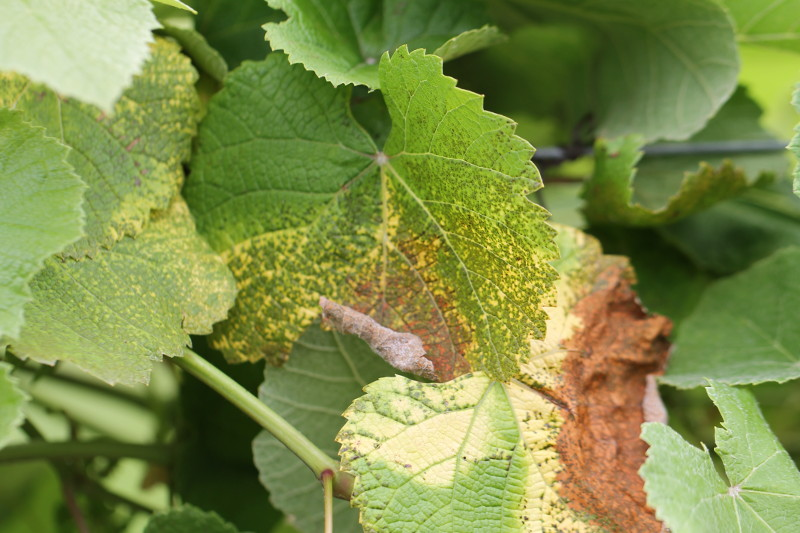downy: (224, 178, 381, 335), (398, 172, 550, 324), (368, 385, 498, 515), (115, 203, 223, 311), (540, 324, 642, 426), (518, 439, 611, 532)
